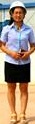boots: (0, 117, 18, 124), (10, 112, 17, 124)
hard-hat: (0, 0, 18, 13)
